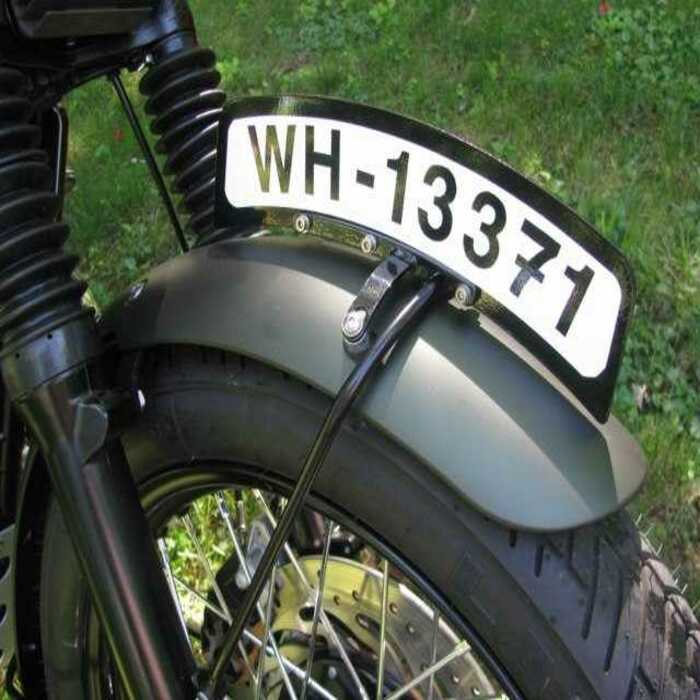n: (214, 94, 638, 404)
